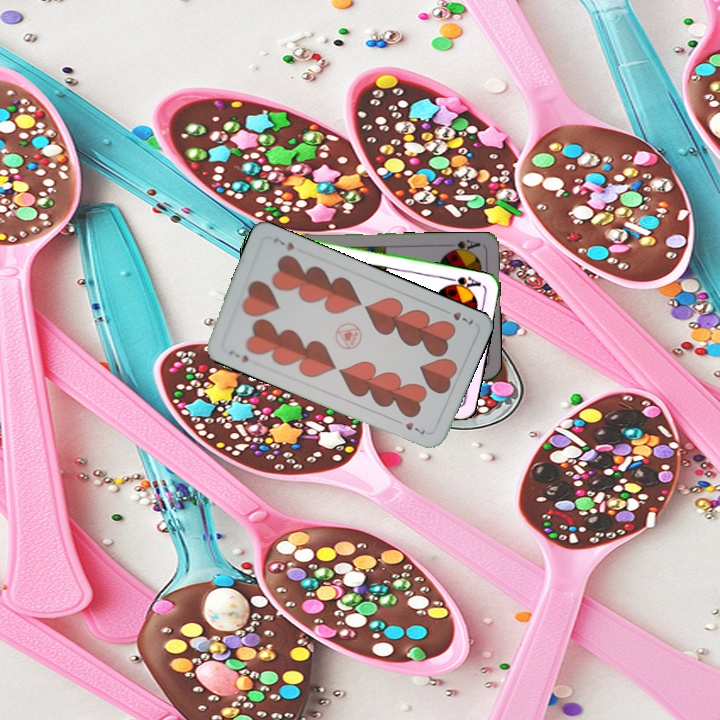H7: (438, 305, 476, 327), (225, 345, 251, 365)
SA: (444, 273, 485, 293), (444, 236, 482, 255)
